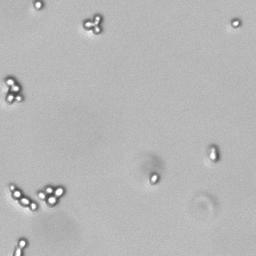budding: (11, 238, 29, 256), (209, 146, 218, 162)
cluster: (7, 181, 38, 214), (35, 182, 67, 208), (3, 76, 24, 106), (82, 13, 105, 35)
individual: (149, 173, 159, 185), (34, 1, 44, 12), (231, 19, 241, 29)
